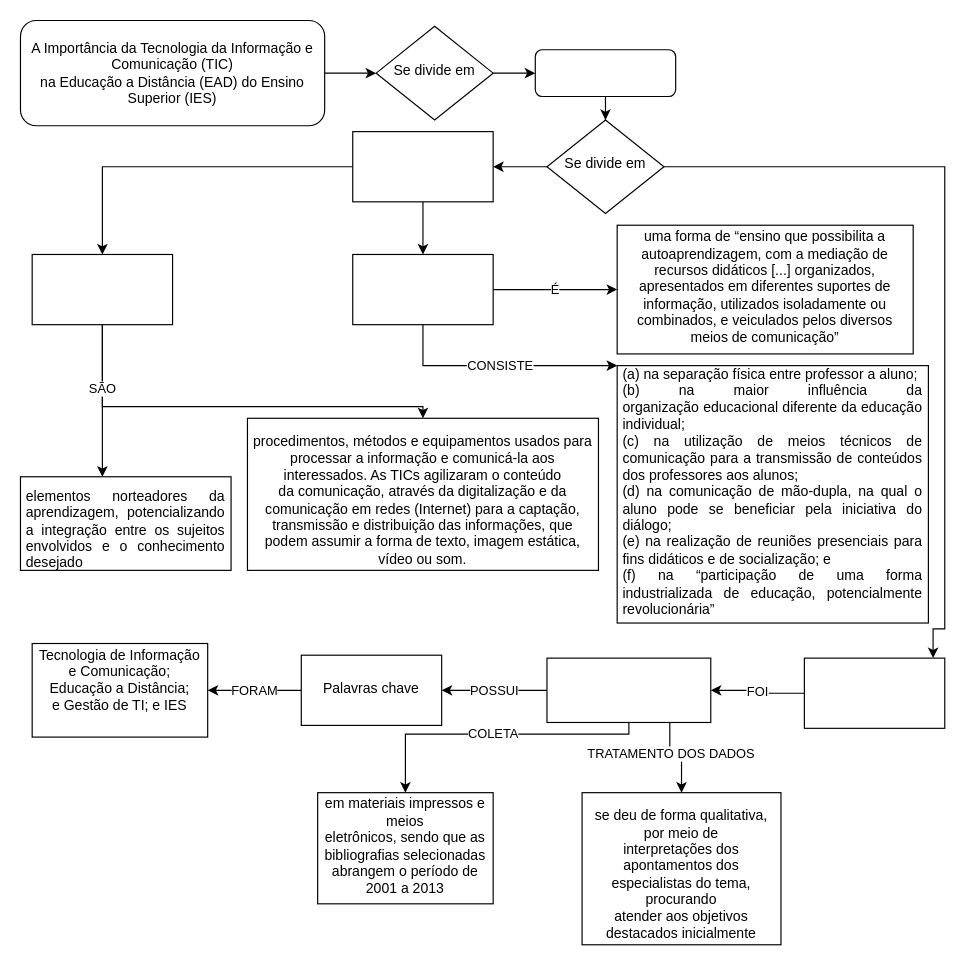
The diagram is 975 pixels wide and 965 high, and some of its shapes have lost their labels. The box of each missing label's shape, as (x1, y1, x2, y2) in pixels:
Conceitos: (352, 130, 493, 202)
EAD: (352, 253, 493, 325)
FUNDAMENTAÇÃO TEÓRICA: (534, 49, 676, 97)
Metodologia: (803, 657, 945, 728)
pesquisa bibliográfica de caráter exploratório-descritivo,: (546, 657, 711, 722)
TICs: (31, 253, 173, 325)
